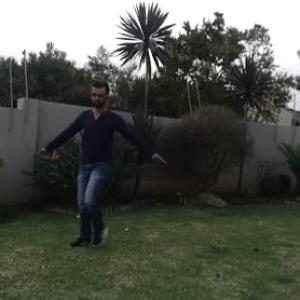land: (34, 81, 168, 245)
